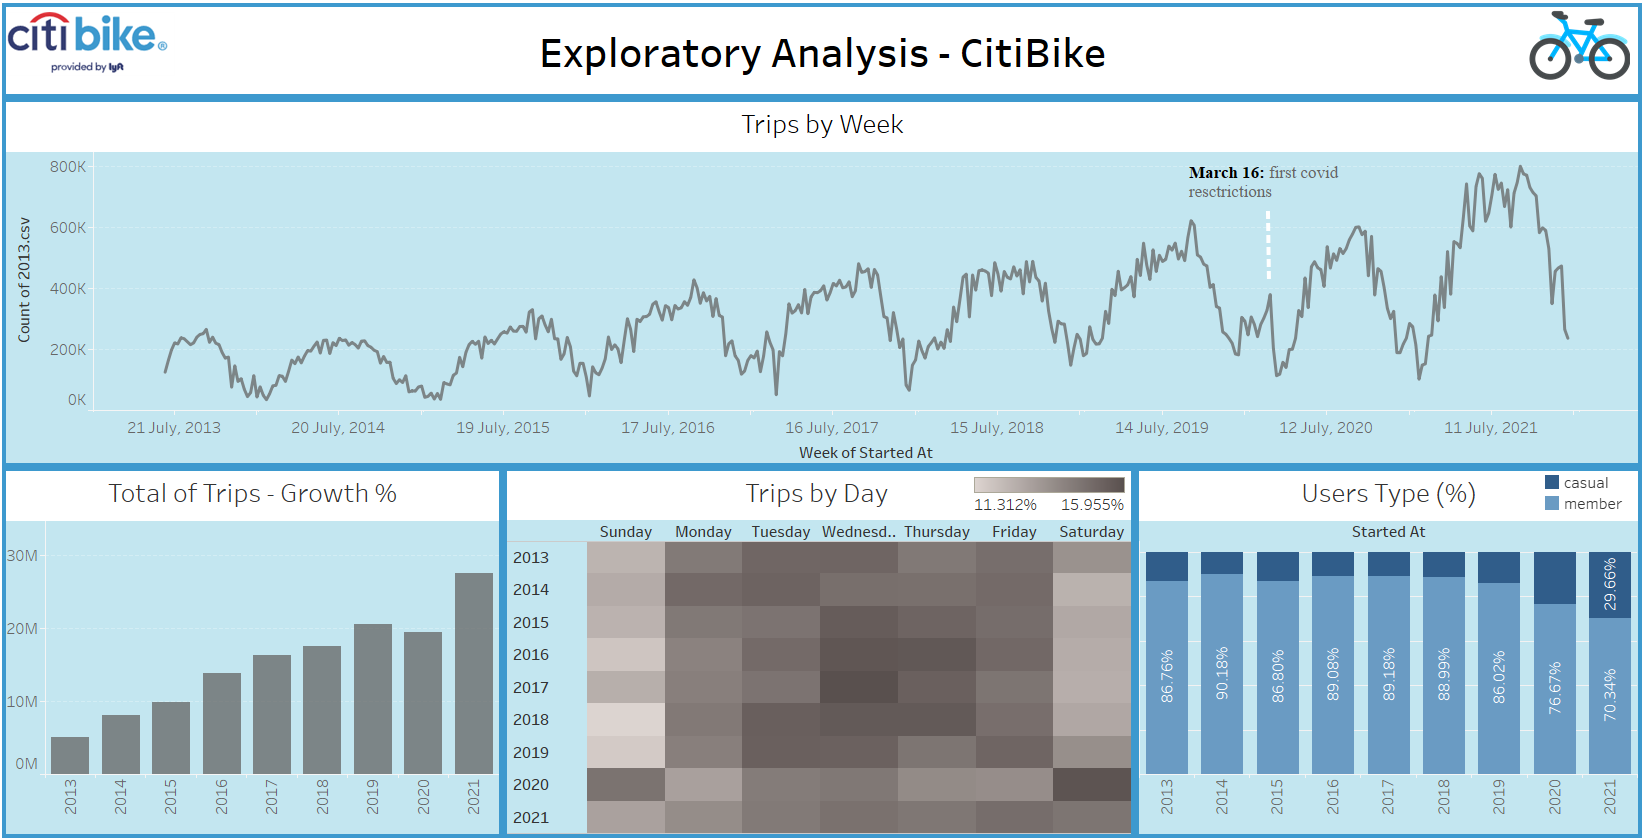

Layout of this report page (visuals, bound fields, positions):
{"tool":"tableau","page":{"name":"year","canvas":[1000,1000],"units":"permille","ordinal":6},"visuals":[{"type":"title","box":[4.8,9.4,990.3,111.6]},{"type":"image","param":"C:/Users/Raphael Costa/Desktop/Thiago/Data Mining/IronHack/Final Project Data Se","box":[7.2,20,102,91.7]},{"type":"worksheet","title":"trips by week","mark":"Automatic","rows":["2013.csv_D516ED04798B4F7F8C7D6F623E1E6077"],"cols":["started_at"],"box":[4.8,121,990.3,434.1]},{"type":"worksheet","title":"member_casual count year","mark":"Bar","rows":["2013.csv_D516ED04798B4F7F8C7D6F623E1E6077"],"cols":["started_at"],"box":[4.8,555.1,302.1,435.5]},{"type":"worksheet","title":"week_year","mark":"Automatic","rows":["started_at"],"cols":["started_at"],"box":[307,555.1,381.9,435.5]},{"type":"worksheet","title":"member weekday","mark":"Bar","cols":["started_at"],"box":[688.9,555.1,306.3,435.5]},{"type":"legend","title":"member weekday","param":"[federated.1grv25w1kfb80c1gx685q0tu9dn1].[none:member_casual:nk]","box":[934.2,560.5,63.4,75.2]},{"type":"legend","title":"week_year","param":"[federated.1grv25w1kfb80c1gx685q0tu9dn1].[pcto:cnt:Calculation_66596980830434918","box":[589,561.7,96,49.4]},{"type":"legend","title":"member_casual count year","param":"[federated.1grv25w1kfb80c1gx685q0tu9dn1].[:Measure Names]","box":[56.1,601.6,72.4,75.2]}]}

Visuals, with their boxes on the dashboard's canvas, which has no fixed pixel size, in thousandths of its width and height (x1, y1, x2, y2). These are canvas units, not pixel positions in the 1642x838 screenshot, which may show the page scaled, cropped or inside an application window:
title: 5, 9, 995, 121
image: 7, 20, 109, 112
"trips by week" worksheet: 5, 121, 995, 555
"member_casual count year" worksheet (Bar marks): 5, 555, 307, 991
"week_year" worksheet: 307, 555, 689, 991
"member weekday" worksheet (Bar marks): 689, 555, 995, 991
"member weekday" legend: 934, 560, 998, 636
"week_year" legend: 589, 562, 685, 611
"member_casual count year" legend: 56, 602, 128, 677
